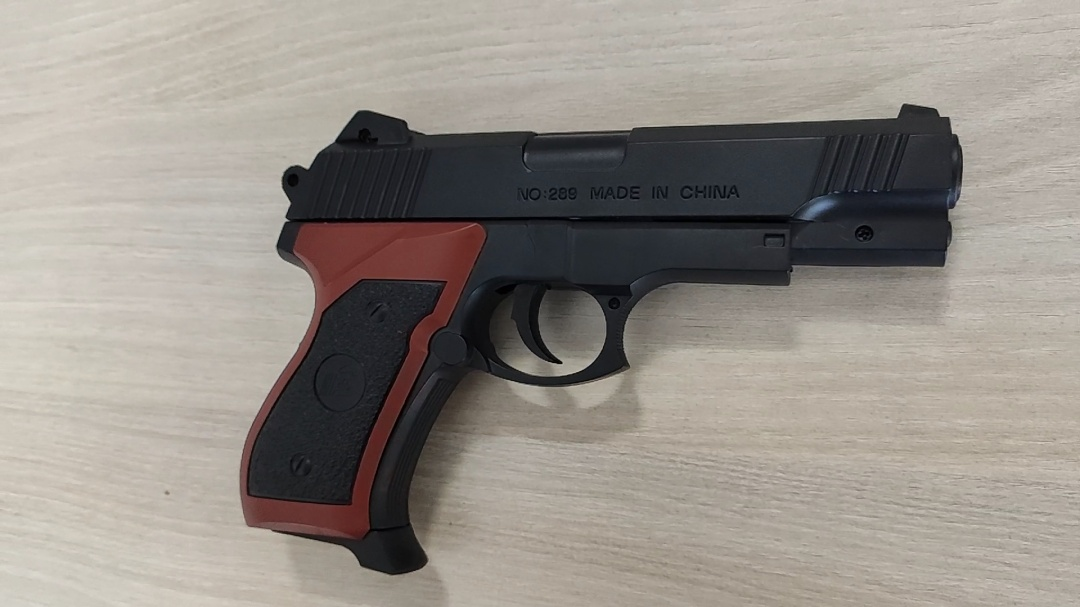gun: (421, 201, 539, 253)
